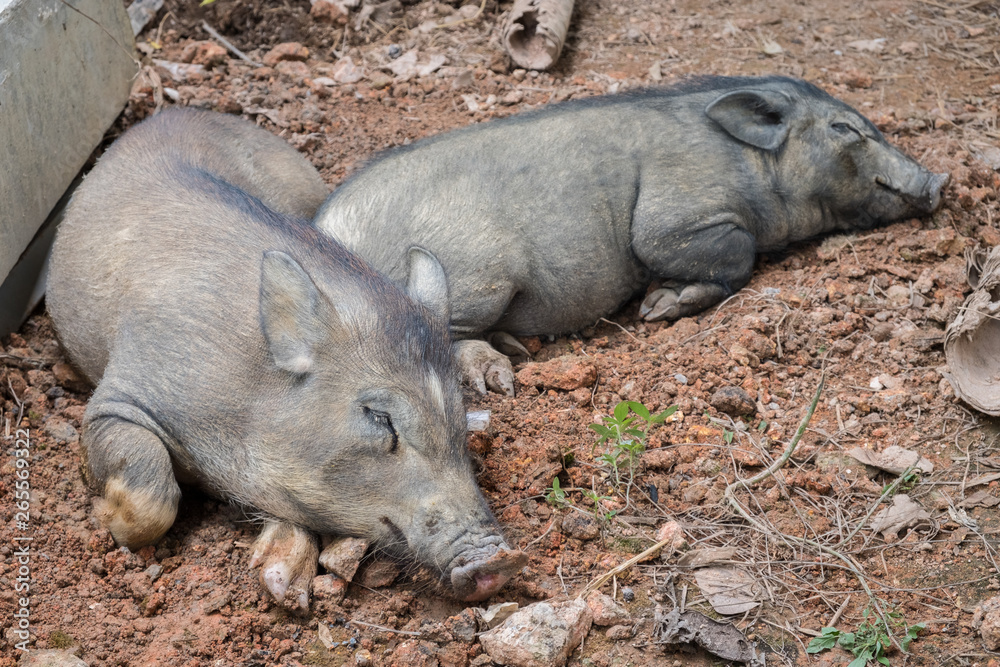boar: (32, 93, 534, 615), (323, 56, 963, 370)
